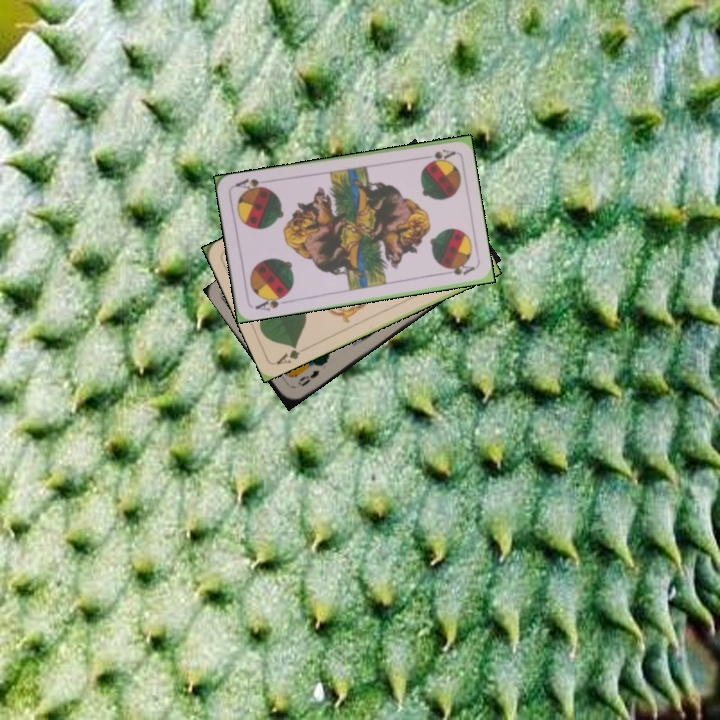EO: (294, 366, 322, 389)
GA: (272, 341, 310, 367)
SA: (251, 290, 290, 313), (417, 145, 457, 165)
